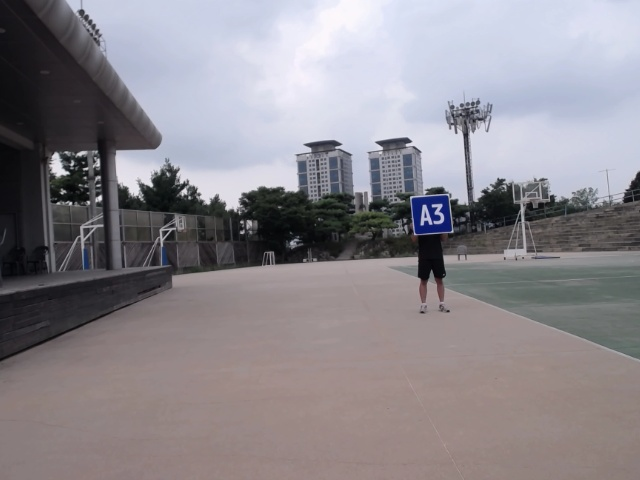delivery_a3: (410, 195, 452, 236)
